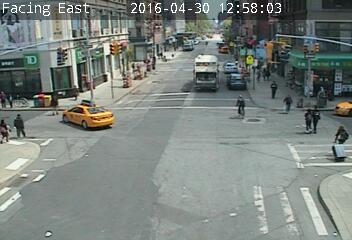neg: (267, 142, 291, 175), (228, 90, 250, 120), (169, 119, 189, 144), (7, 151, 23, 173), (94, 103, 110, 124), (63, 126, 78, 146), (128, 63, 142, 82), (304, 41, 316, 58), (153, 71, 165, 87), (197, 56, 209, 71), (223, 43, 234, 58), (173, 38, 182, 51), (82, 44, 91, 56), (190, 22, 198, 32), (147, 32, 153, 40), (211, 16, 216, 22), (213, 29, 217, 34)
pos: (325, 121, 351, 159), (8, 110, 28, 136), (307, 106, 327, 132), (44, 93, 62, 117), (299, 107, 317, 131), (265, 78, 282, 100), (278, 90, 294, 111), (2, 88, 16, 107), (67, 81, 81, 100), (254, 66, 266, 81), (259, 67, 268, 79), (265, 66, 273, 78), (158, 49, 166, 59), (156, 49, 163, 58), (203, 39, 209, 47)
